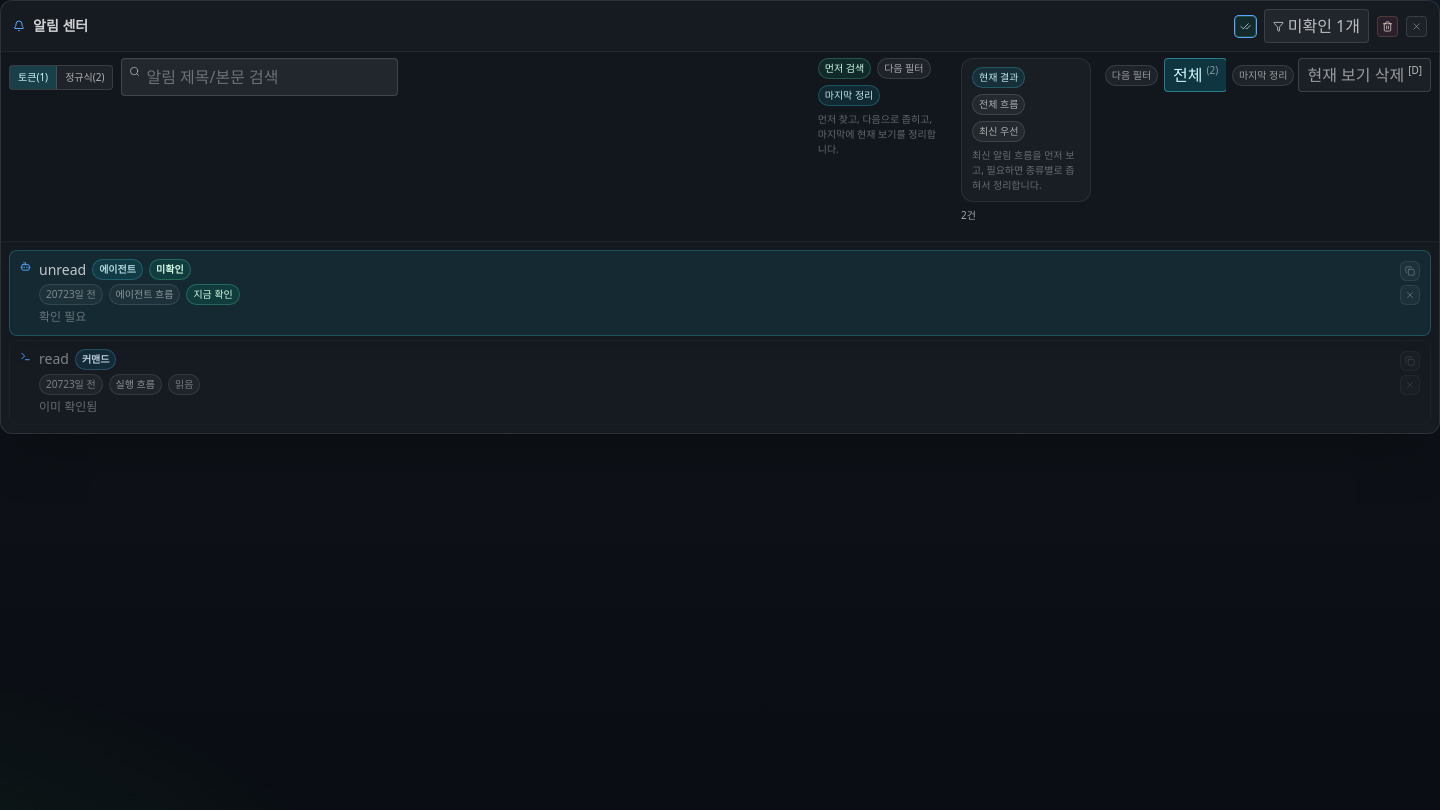
Scenario: NotificationCenter › 미확인 알림 필터를 토글해 미확인 목록만 볼 수 있다
Check: the number of messages is 2, box [9, 250, 1431, 336]; [9, 340, 1431, 425]
What coordinates should you click on to do the following:
click the button with aria-label "미확인 알림만 보기"
I would click on:
 (1316, 26)
Its box is [1264, 9, 1369, 43].
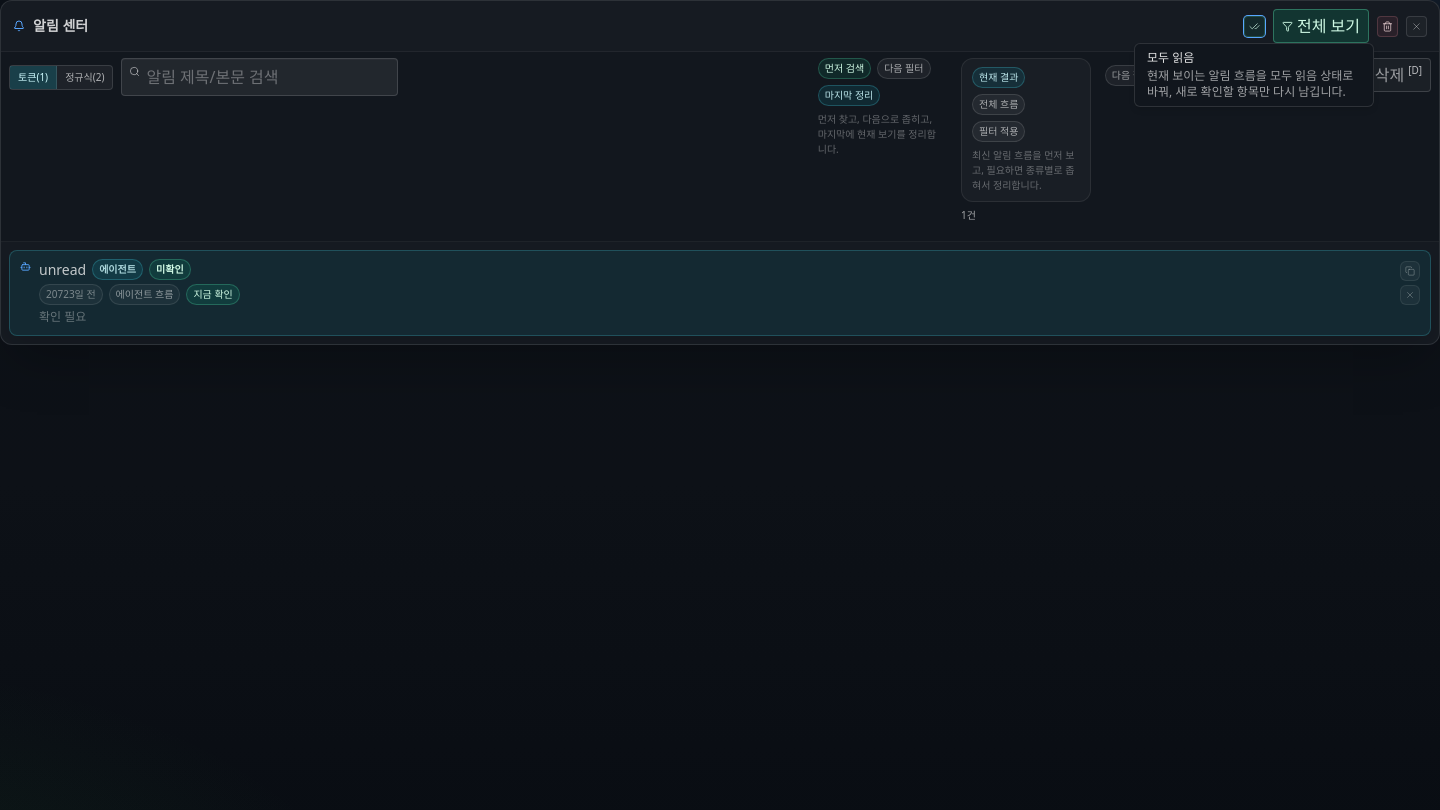
Check: the message shows "unread", box [39, 260, 86, 278]
Check: the number of messages is 1, box [9, 250, 1431, 336]
